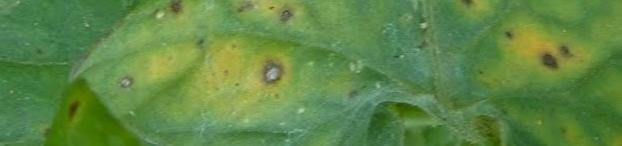Tomato Septoria leaf spot: (63, 0, 622, 146)
